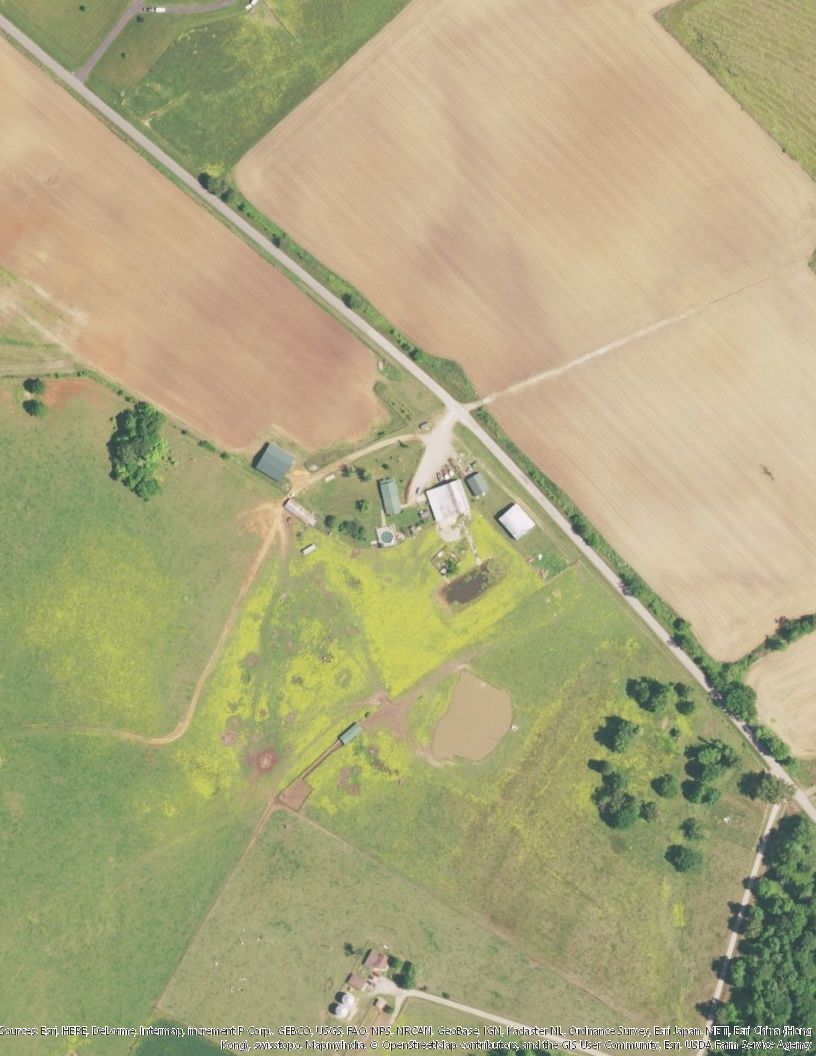cafo: (419, 468, 474, 527)
